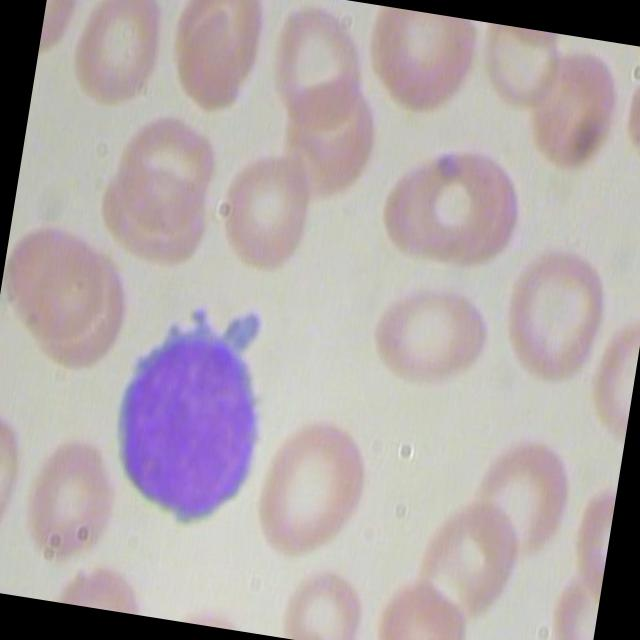RBC: (241, 404, 380, 570), (496, 237, 622, 397), (371, 132, 506, 274), (364, 263, 498, 392), (402, 490, 526, 629), (257, 0, 379, 139), (209, 140, 327, 280), (512, 38, 630, 178), (108, 101, 230, 236), (463, 429, 582, 566), (0, 211, 117, 344), (358, 5, 480, 124), (18, 427, 120, 568), (157, 0, 271, 117), (59, 0, 177, 113), (367, 561, 473, 640)
WBC: (82, 274, 297, 546)
